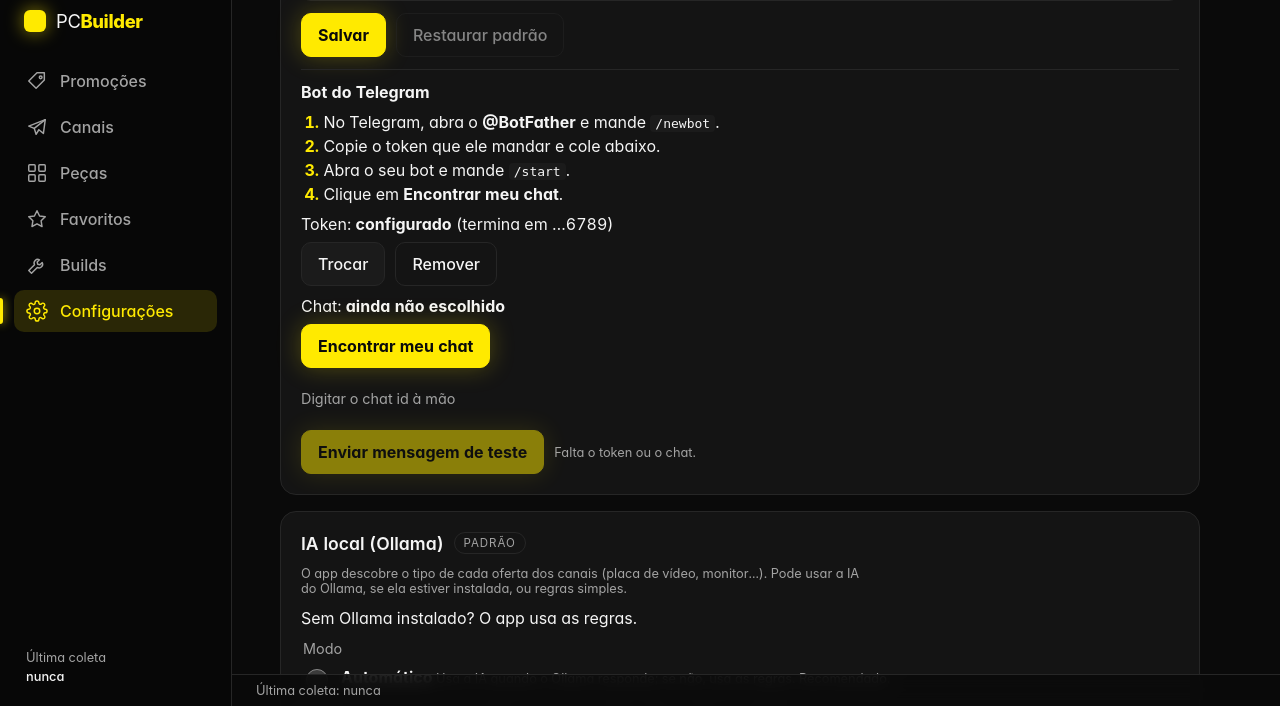
Test: Notificação: bot do Telegram › nenhum chat: explica o /start
(page scrolled)
Click the button "Encontrar meu chat". click: [396, 346]
box: 301,324 -> 490,368
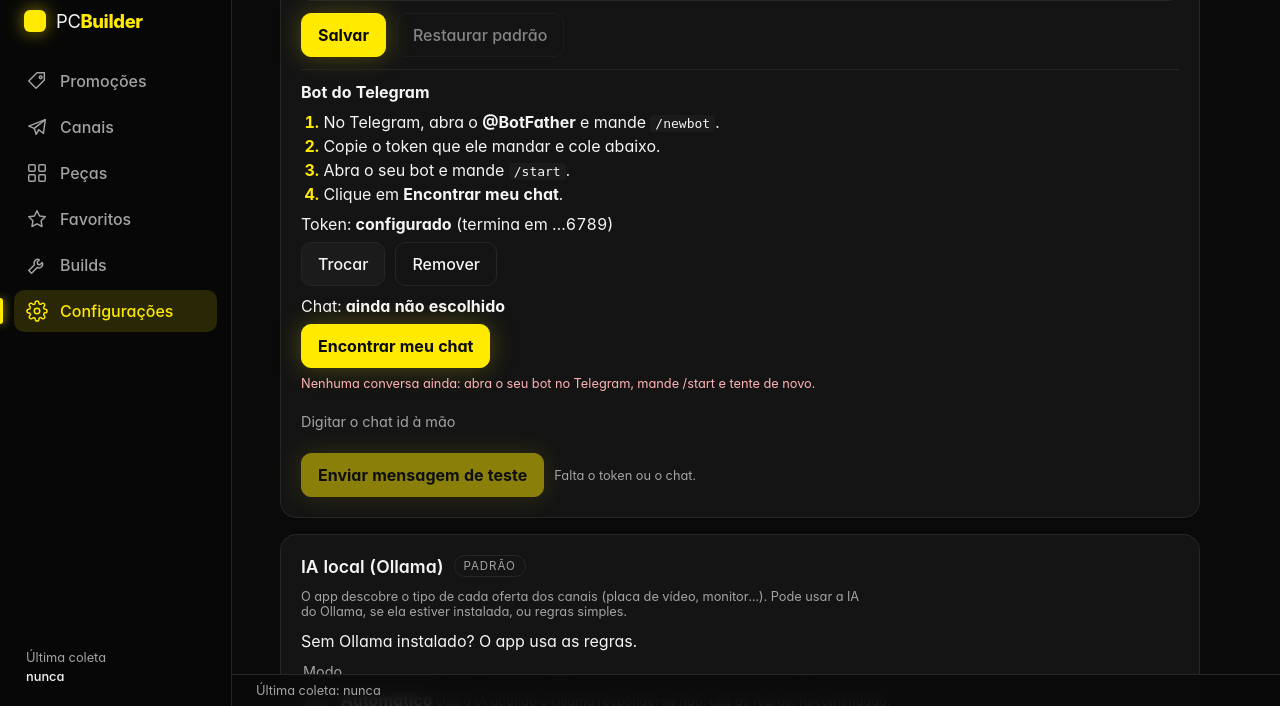
Check: the message shows "/start", box 301,376 -> 815,391
